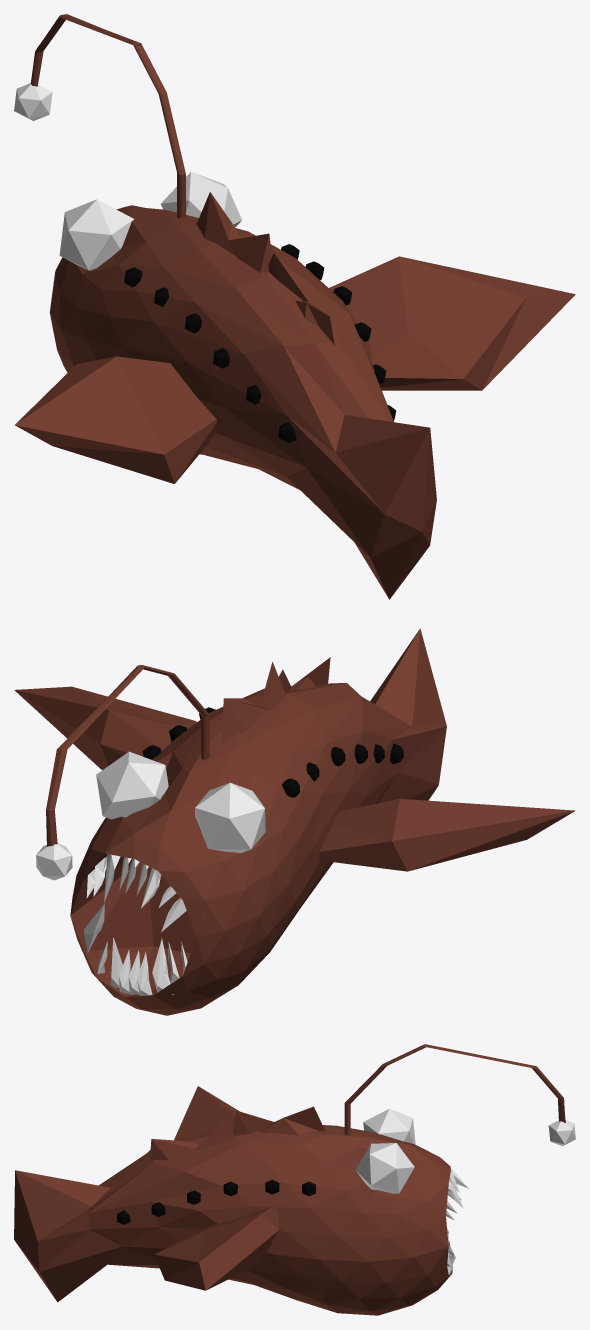
Rendered from mangeurdenemo.glb.
3 renders of one model, top to bottom at view 1: azimuth 30°, elevation 25°; view 2: azimuth 150°, elevation 25°; view 3: azimuth 270°, elevation 25°, orthographic. The views are drawn at different scales.
Visible parts, largest first — view 1: corps; view 2: corps; view 3: corps.
Boxes of the visible parts, x1,y1,x2,y2 form: corps: (14,14,575,599); corps: (14,628,575,1015); corps: (14,1044,575,1315).
Bounding box in the file's own units: 4.15 × 2.58 × 5.01.
